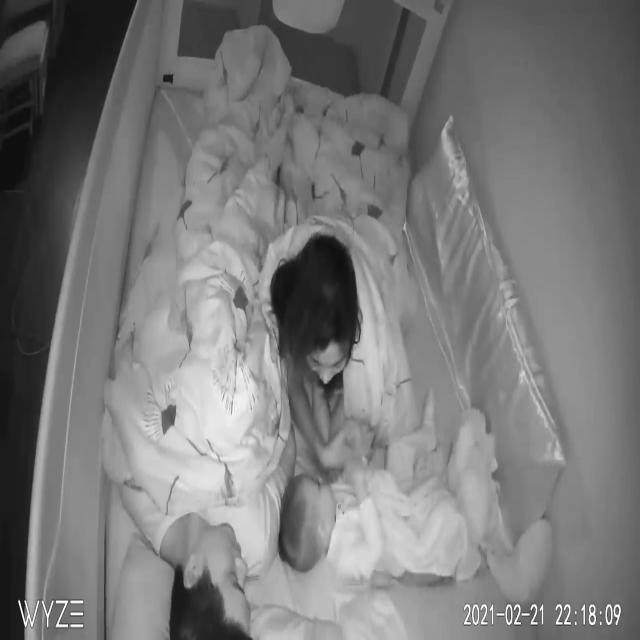baby: (280, 387, 465, 580)
